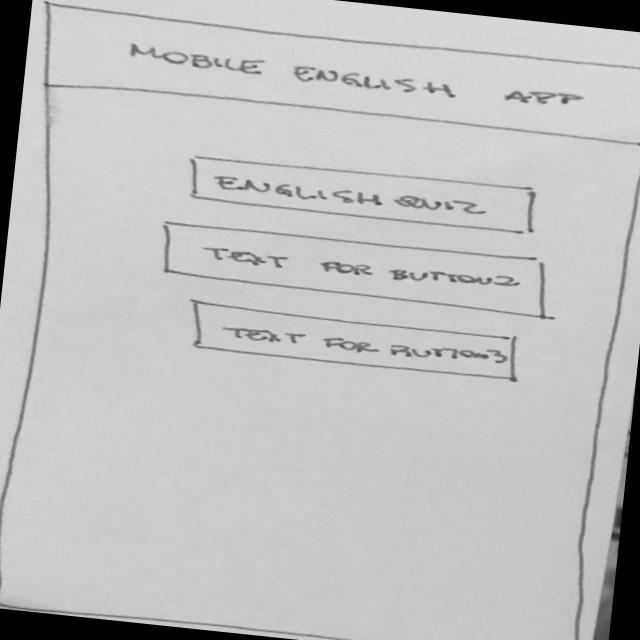button: (155, 218, 563, 325), (184, 151, 552, 242), (183, 298, 529, 387)
container: (1, 75, 640, 640), (32, 1, 640, 153)
label: (123, 39, 593, 117)
